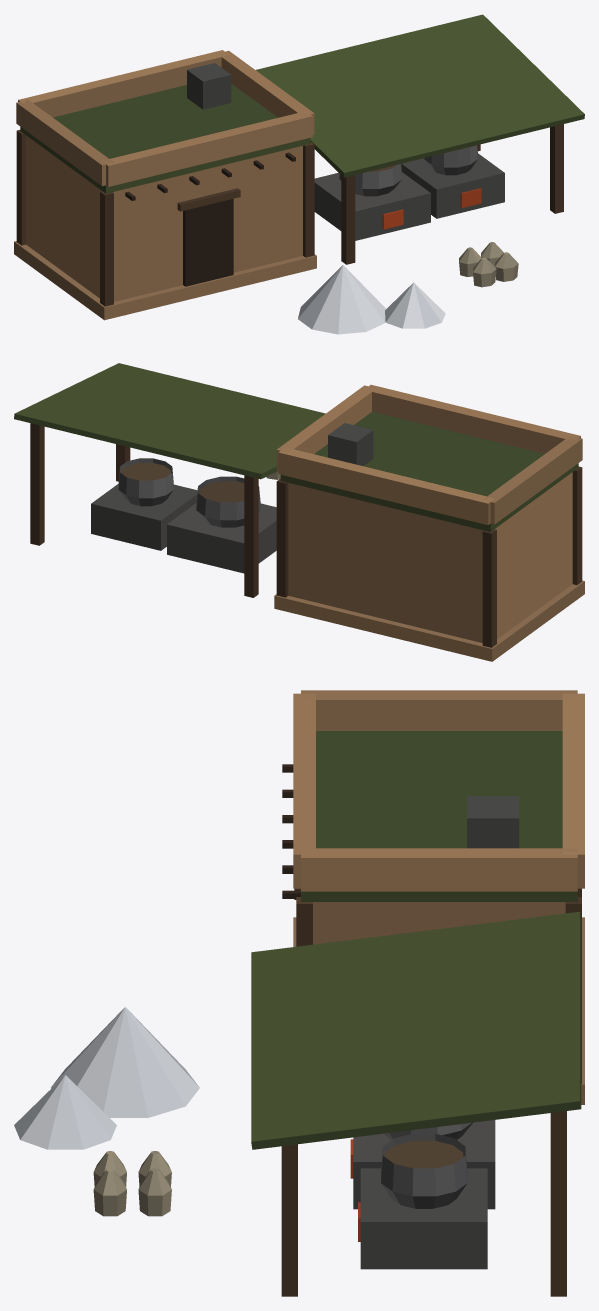
The model's file is walk_steppe_saltworks.glb.
3 renders of one model, top to bottom at view 1: azimuth 30°, elevation 25°; view 2: azimuth 150°, elevation 25°; view 3: azimuth 270°, elevation 25°, orthographic. The views are drawn at different scales.
Visible parts, largest first — view 1: walk_steppe_saltworks, walk_steppe_saltworks_roof; view 2: walk_steppe_saltworks, walk_steppe_saltworks_roof; view 3: walk_steppe_saltworks_roof, walk_steppe_saltworks.
Part boxes in pixels (x1=…): walk_steppe_saltworks: x1=14, y1=124, x2=563, y2=334; walk_steppe_saltworks_roof: x1=16, y1=14, x2=584, y2=193; walk_steppe_saltworks: x1=30, y1=423, x2=584, y2=661; walk_steppe_saltworks_roof: x1=14, y1=363, x2=582, y2=531; walk_steppe_saltworks_roof: x1=251, y1=690, x2=584, y2=1149; walk_steppe_saltworks: x1=14, y1=764, x2=584, y2=1296.
Size of what is drawn, in the model's own units: 11.65 by 3.91 by 7.64.
2 materials, 2 textured.
